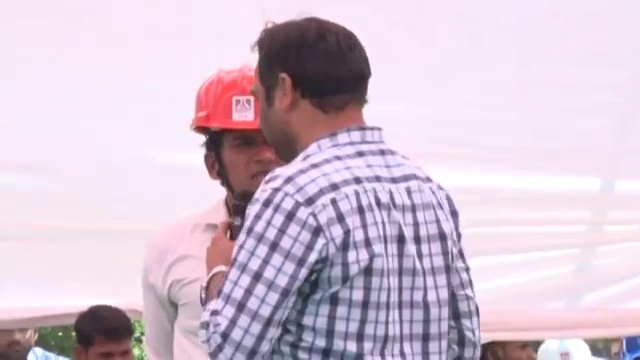helmet: (188, 65, 265, 134)
helmet_off: (251, 27, 367, 136), (69, 302, 143, 357), (0, 323, 39, 360), (481, 340, 538, 360)
helmet_on: (188, 61, 288, 213)
person: (203, 14, 479, 360), (141, 62, 289, 360)
